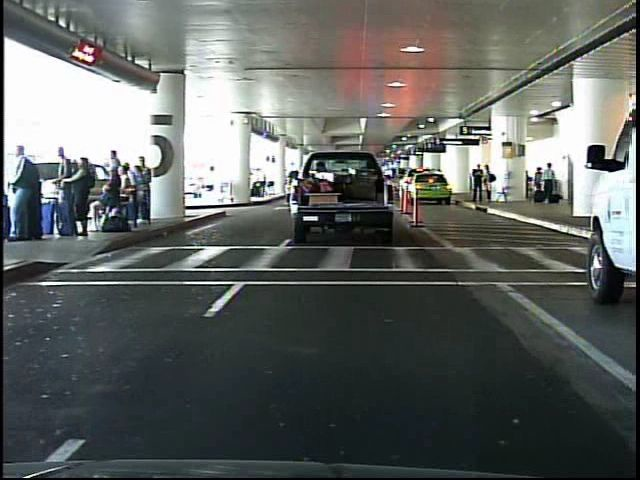person: (479, 164, 495, 205), (470, 161, 483, 205)
